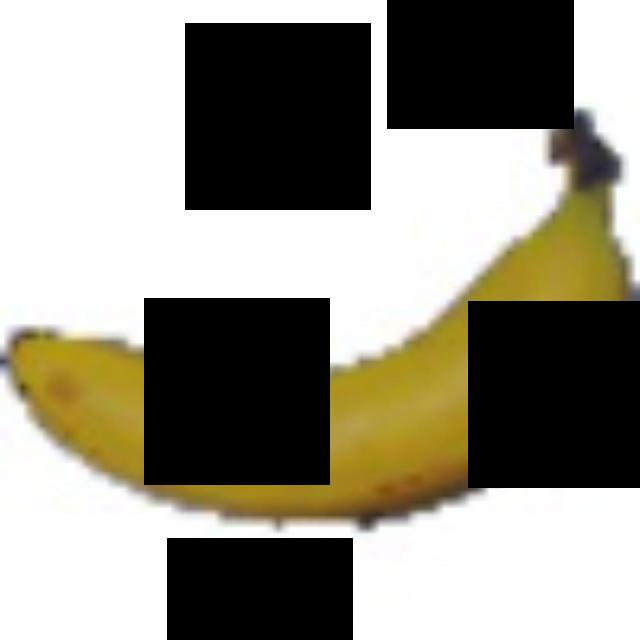banana: (0, 96, 634, 532)
